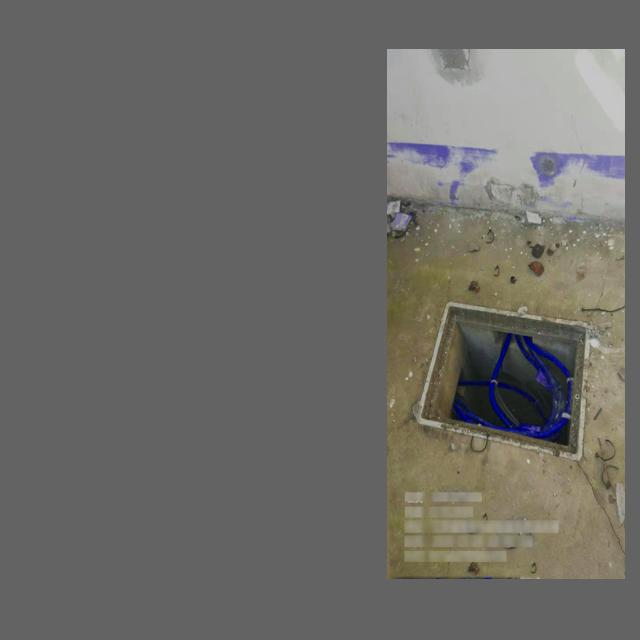lose: (415, 300, 590, 461)
